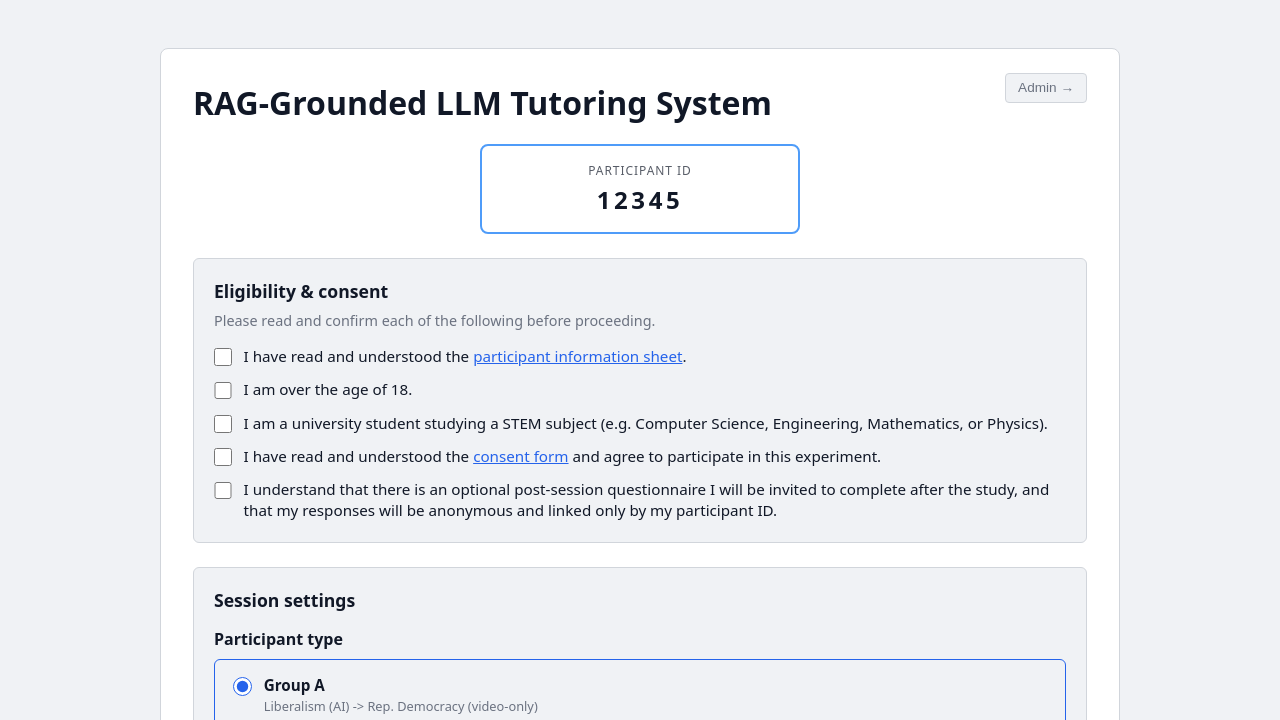
Test case: WelcomeView › keeps Start disabled until all five consent checkboxes are ticked
Click the 1st checkbox at [223, 357], box left=214, top=348, right=232, bottom=366
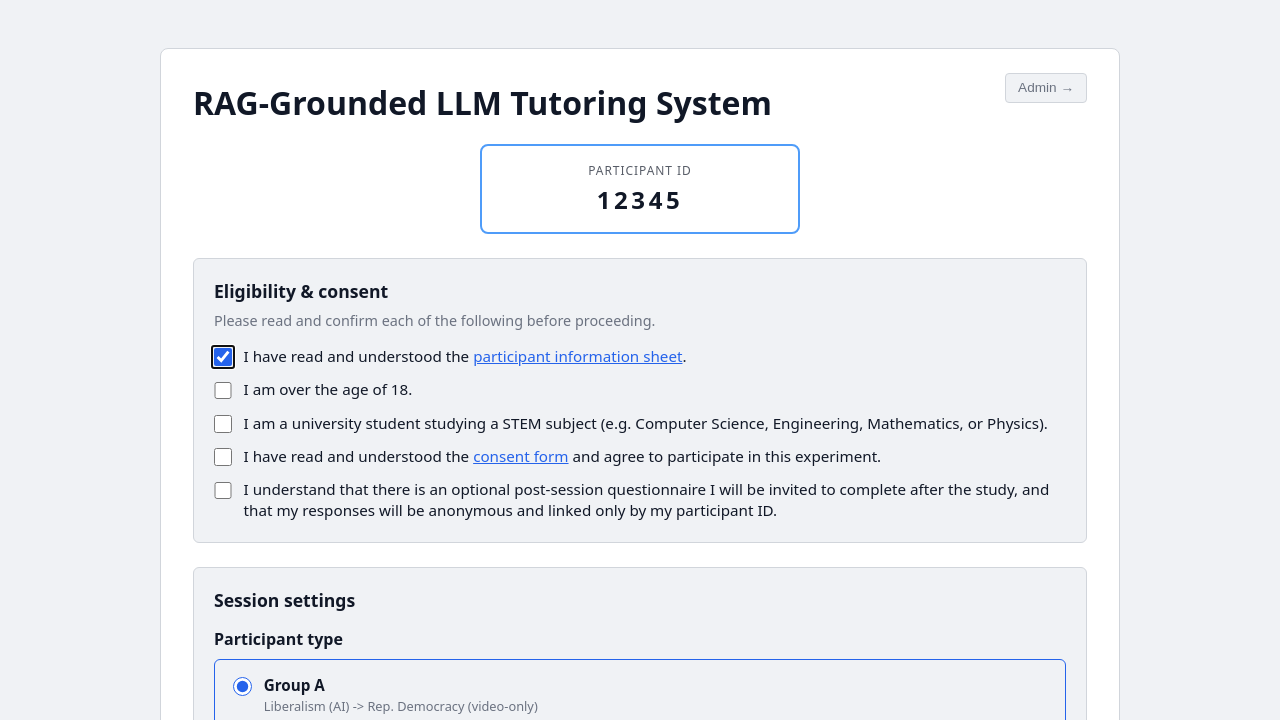
Click the checkbox labelled "I am over the age of 18." at [223, 390], box left=214, top=382, right=232, bottom=399
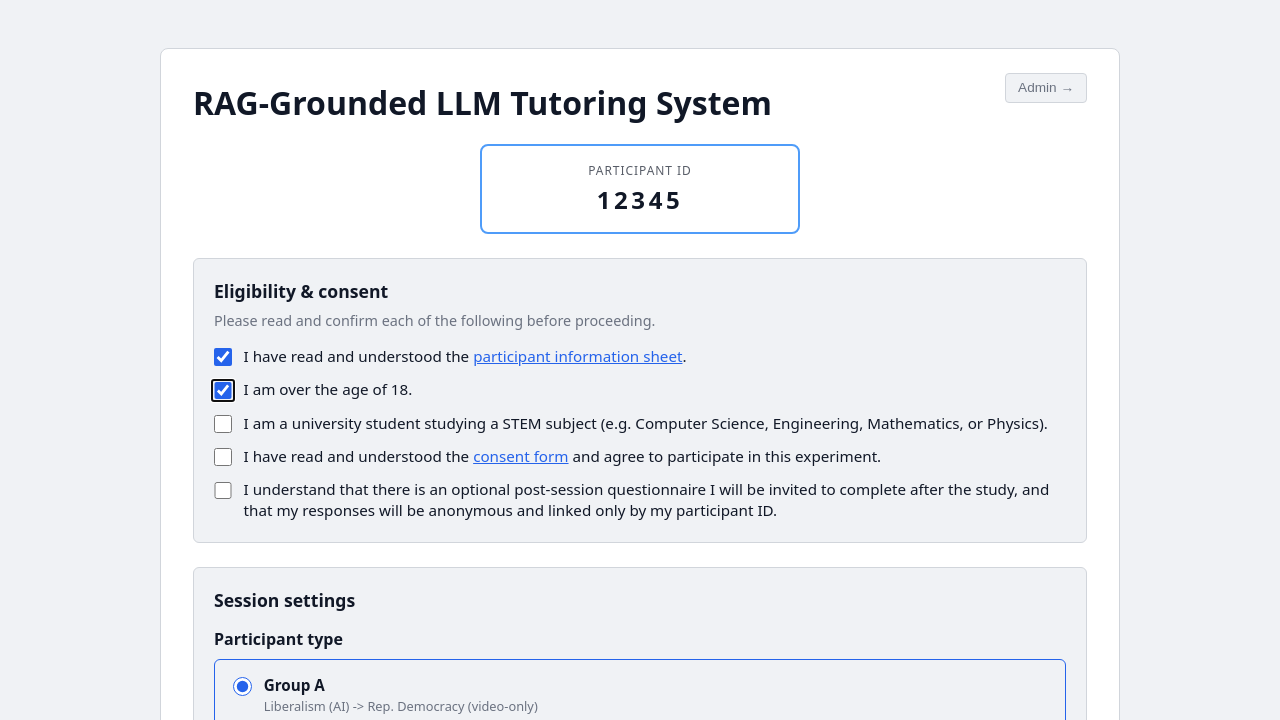
Click the 3rd checkbox at [223, 424], box left=214, top=415, right=232, bottom=433
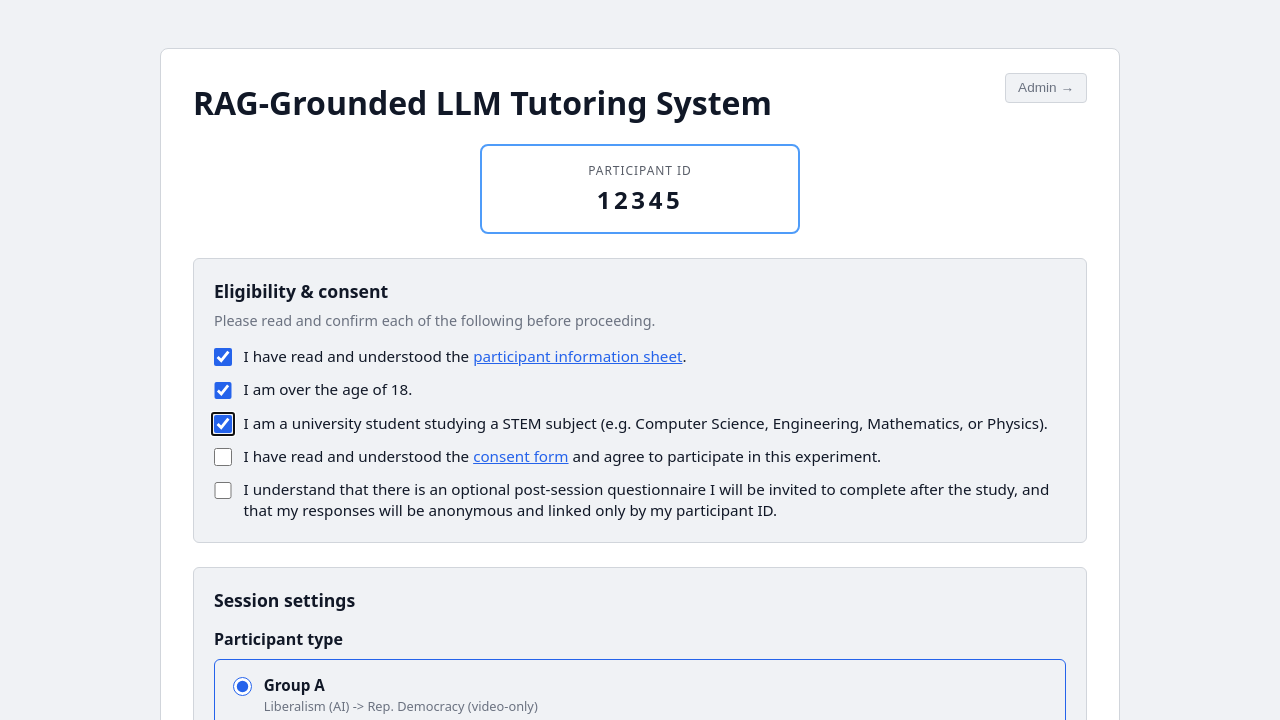
Click the 4th checkbox at [223, 457], box left=214, top=448, right=232, bottom=466
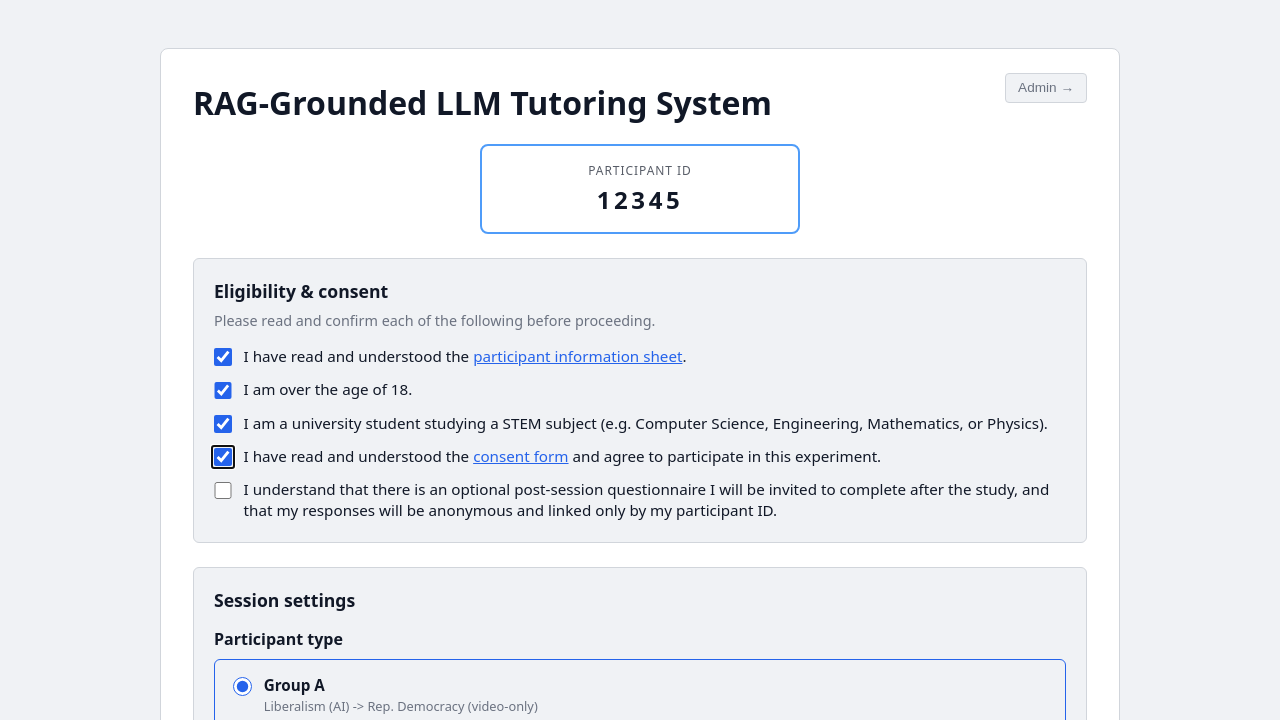
Click the 5th checkbox at [223, 490], box left=214, top=482, right=232, bottom=499
(page scrolled)
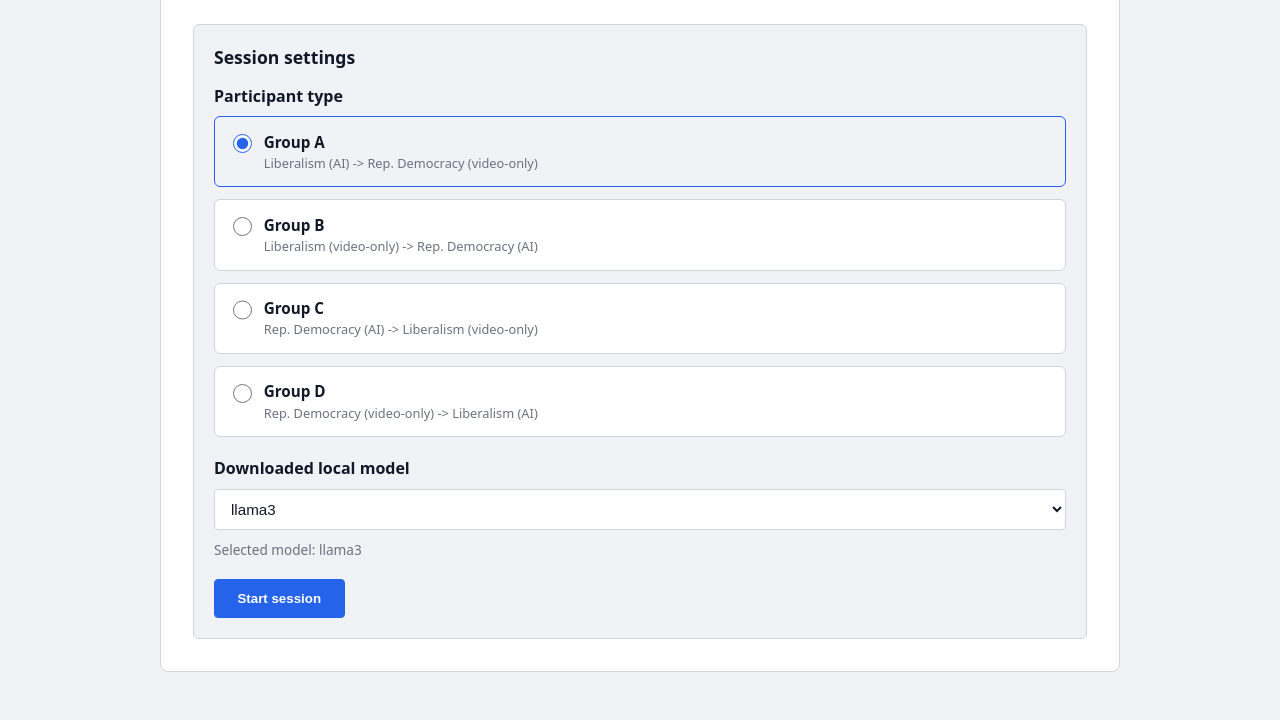
Now the button "Start session" is enabled, box left=214, top=579, right=344, bottom=618
